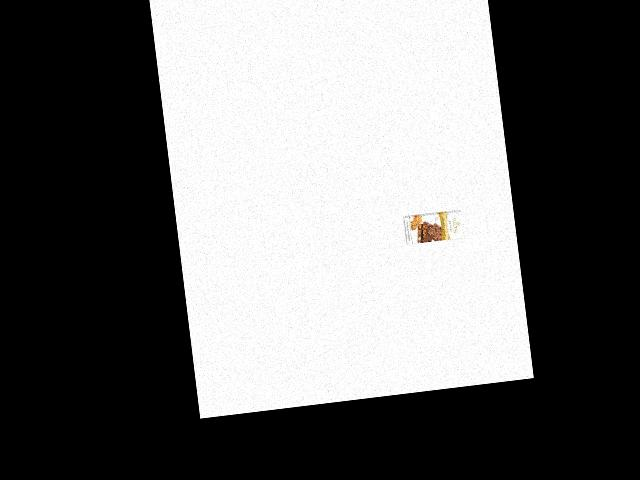chocolate: (401, 207, 467, 246)
